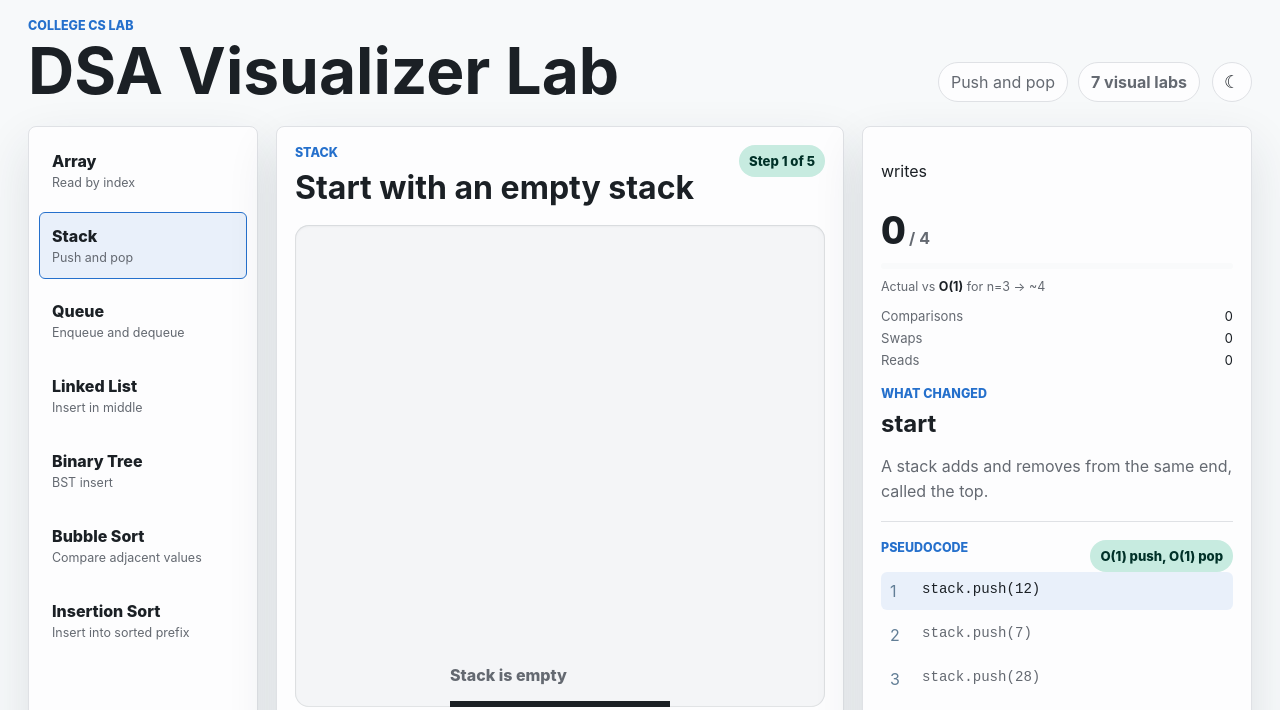
Scenario: App › steps through a selected topic and resets to the first state
Click the button "Bubble Sort Compare adjacent values" at (143, 545), box [39,512,247,579]
(page scrolled)
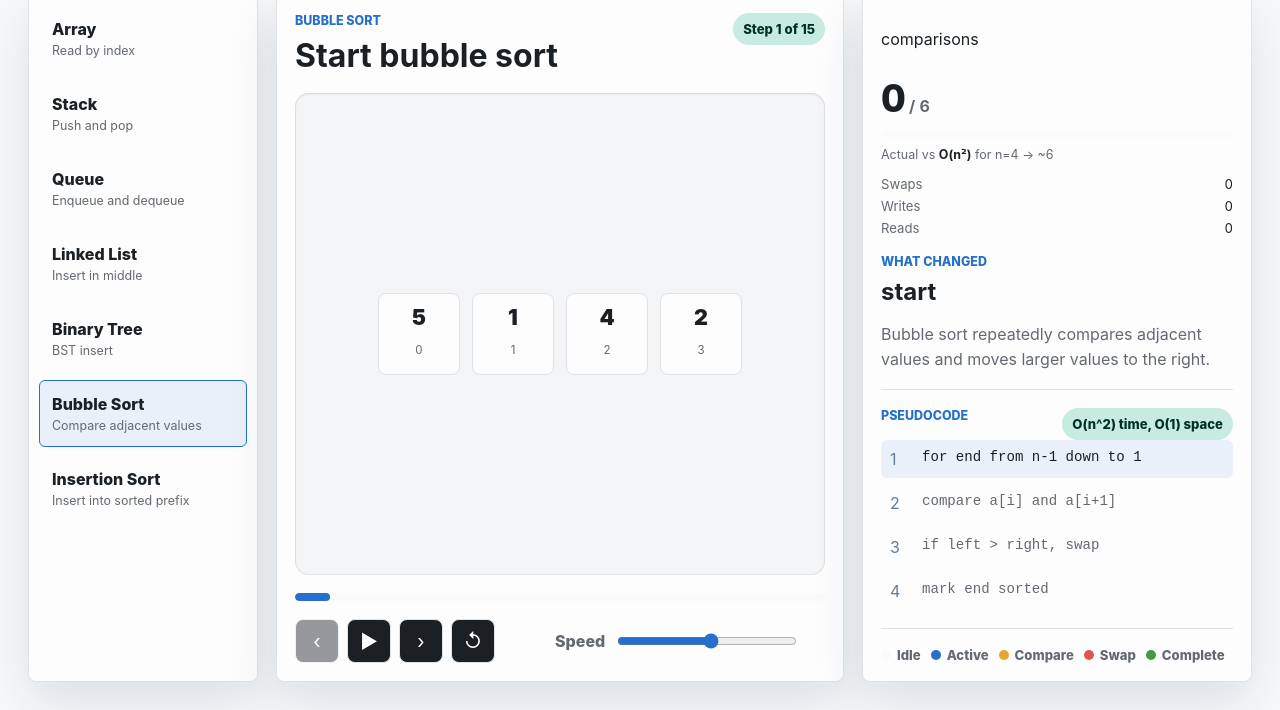
Result: the heading "Start bubble sort" is shown at [295,36,558,75]
Click the button named "Next step" at (421, 641), box [399,619,443,663]
(page scrolled)
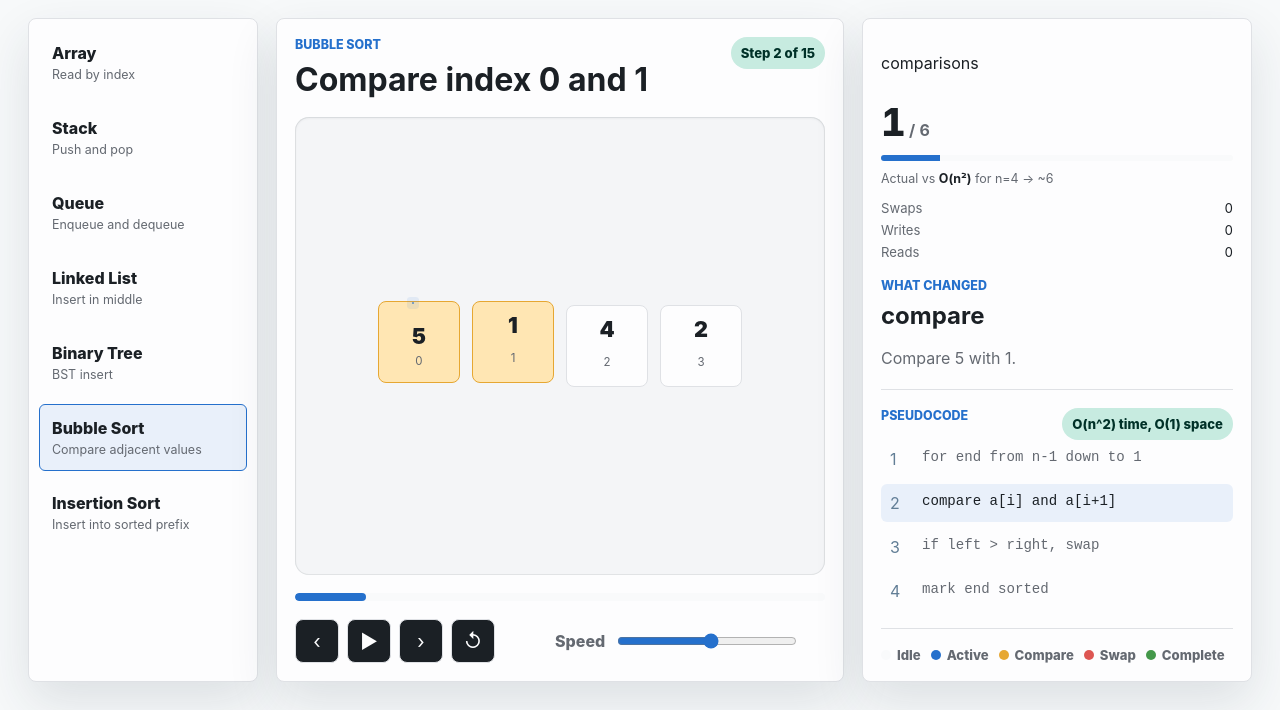
Result: the heading "Compare index 0 and 1" is shown at [295,60,648,99]
Click the button named "Reset" at (473, 641), box [451,619,495,663]
(page scrolled)
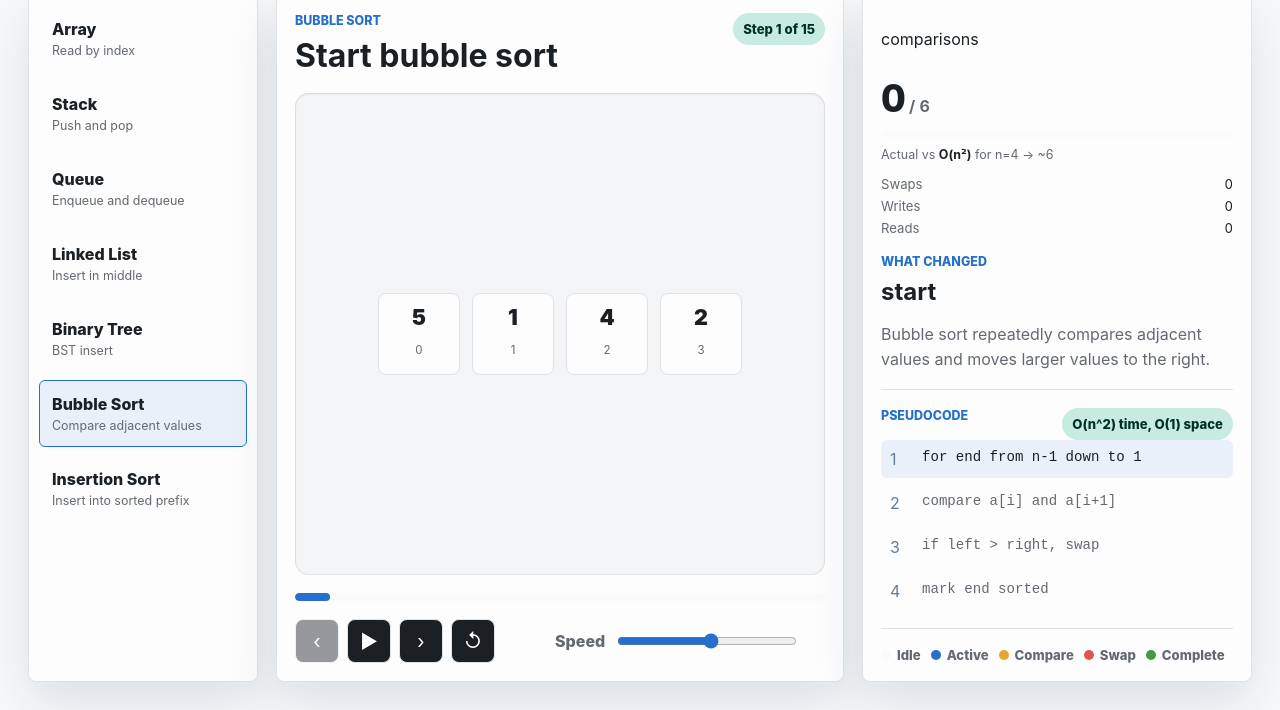
Result: the heading "Start bubble sort" is shown at [295,36,558,75]
